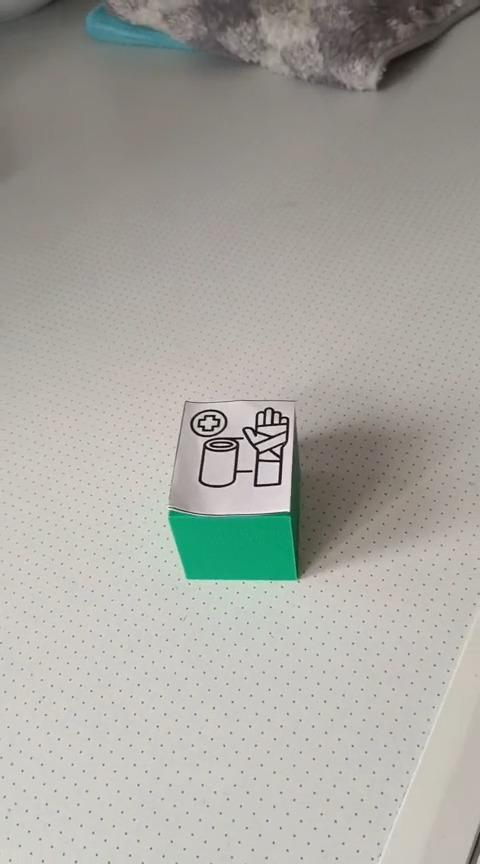Bandages: (167, 398, 303, 579)
